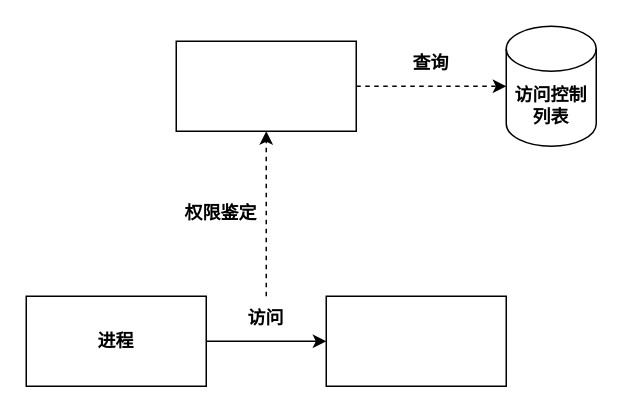
This 623x413 diagram has some shape labels left out. The centre of each missing label's shape, as x and y in pixels:
"操作系统" belongs at point (265, 85).
"文件" belongs at point (415, 340).
